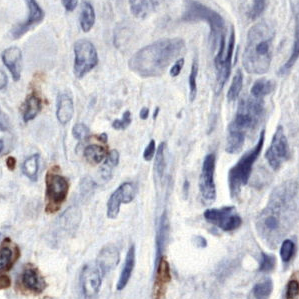Lymphocyte: (42, 169, 70, 216)
